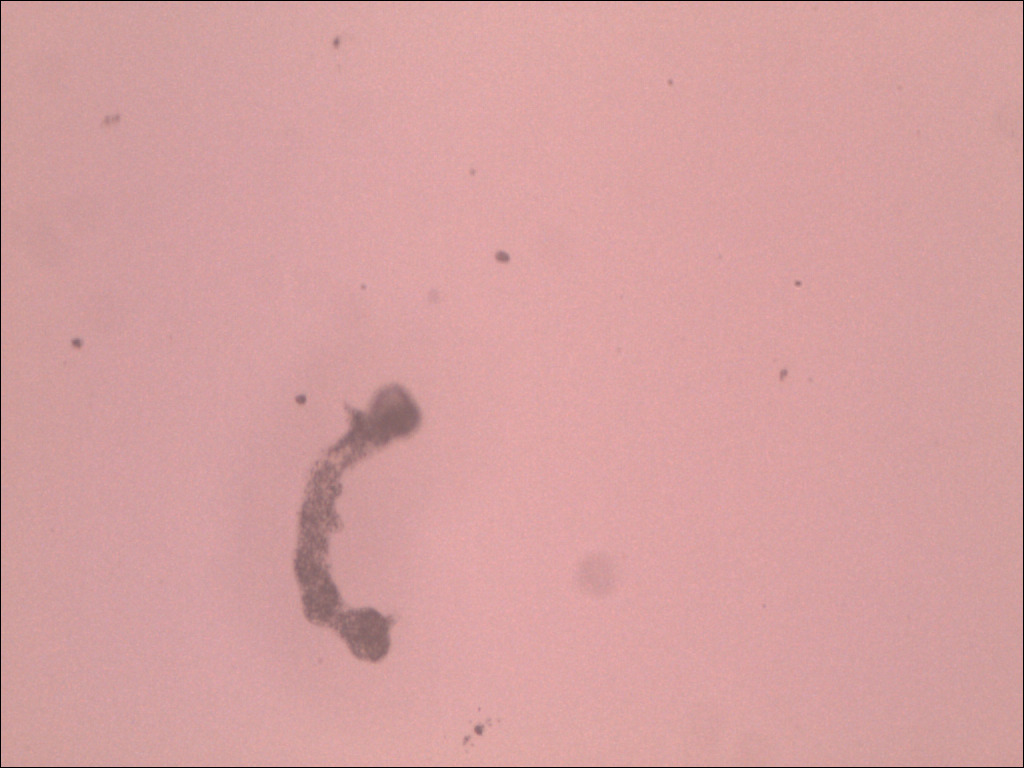amoeba: (284, 378, 440, 674)
